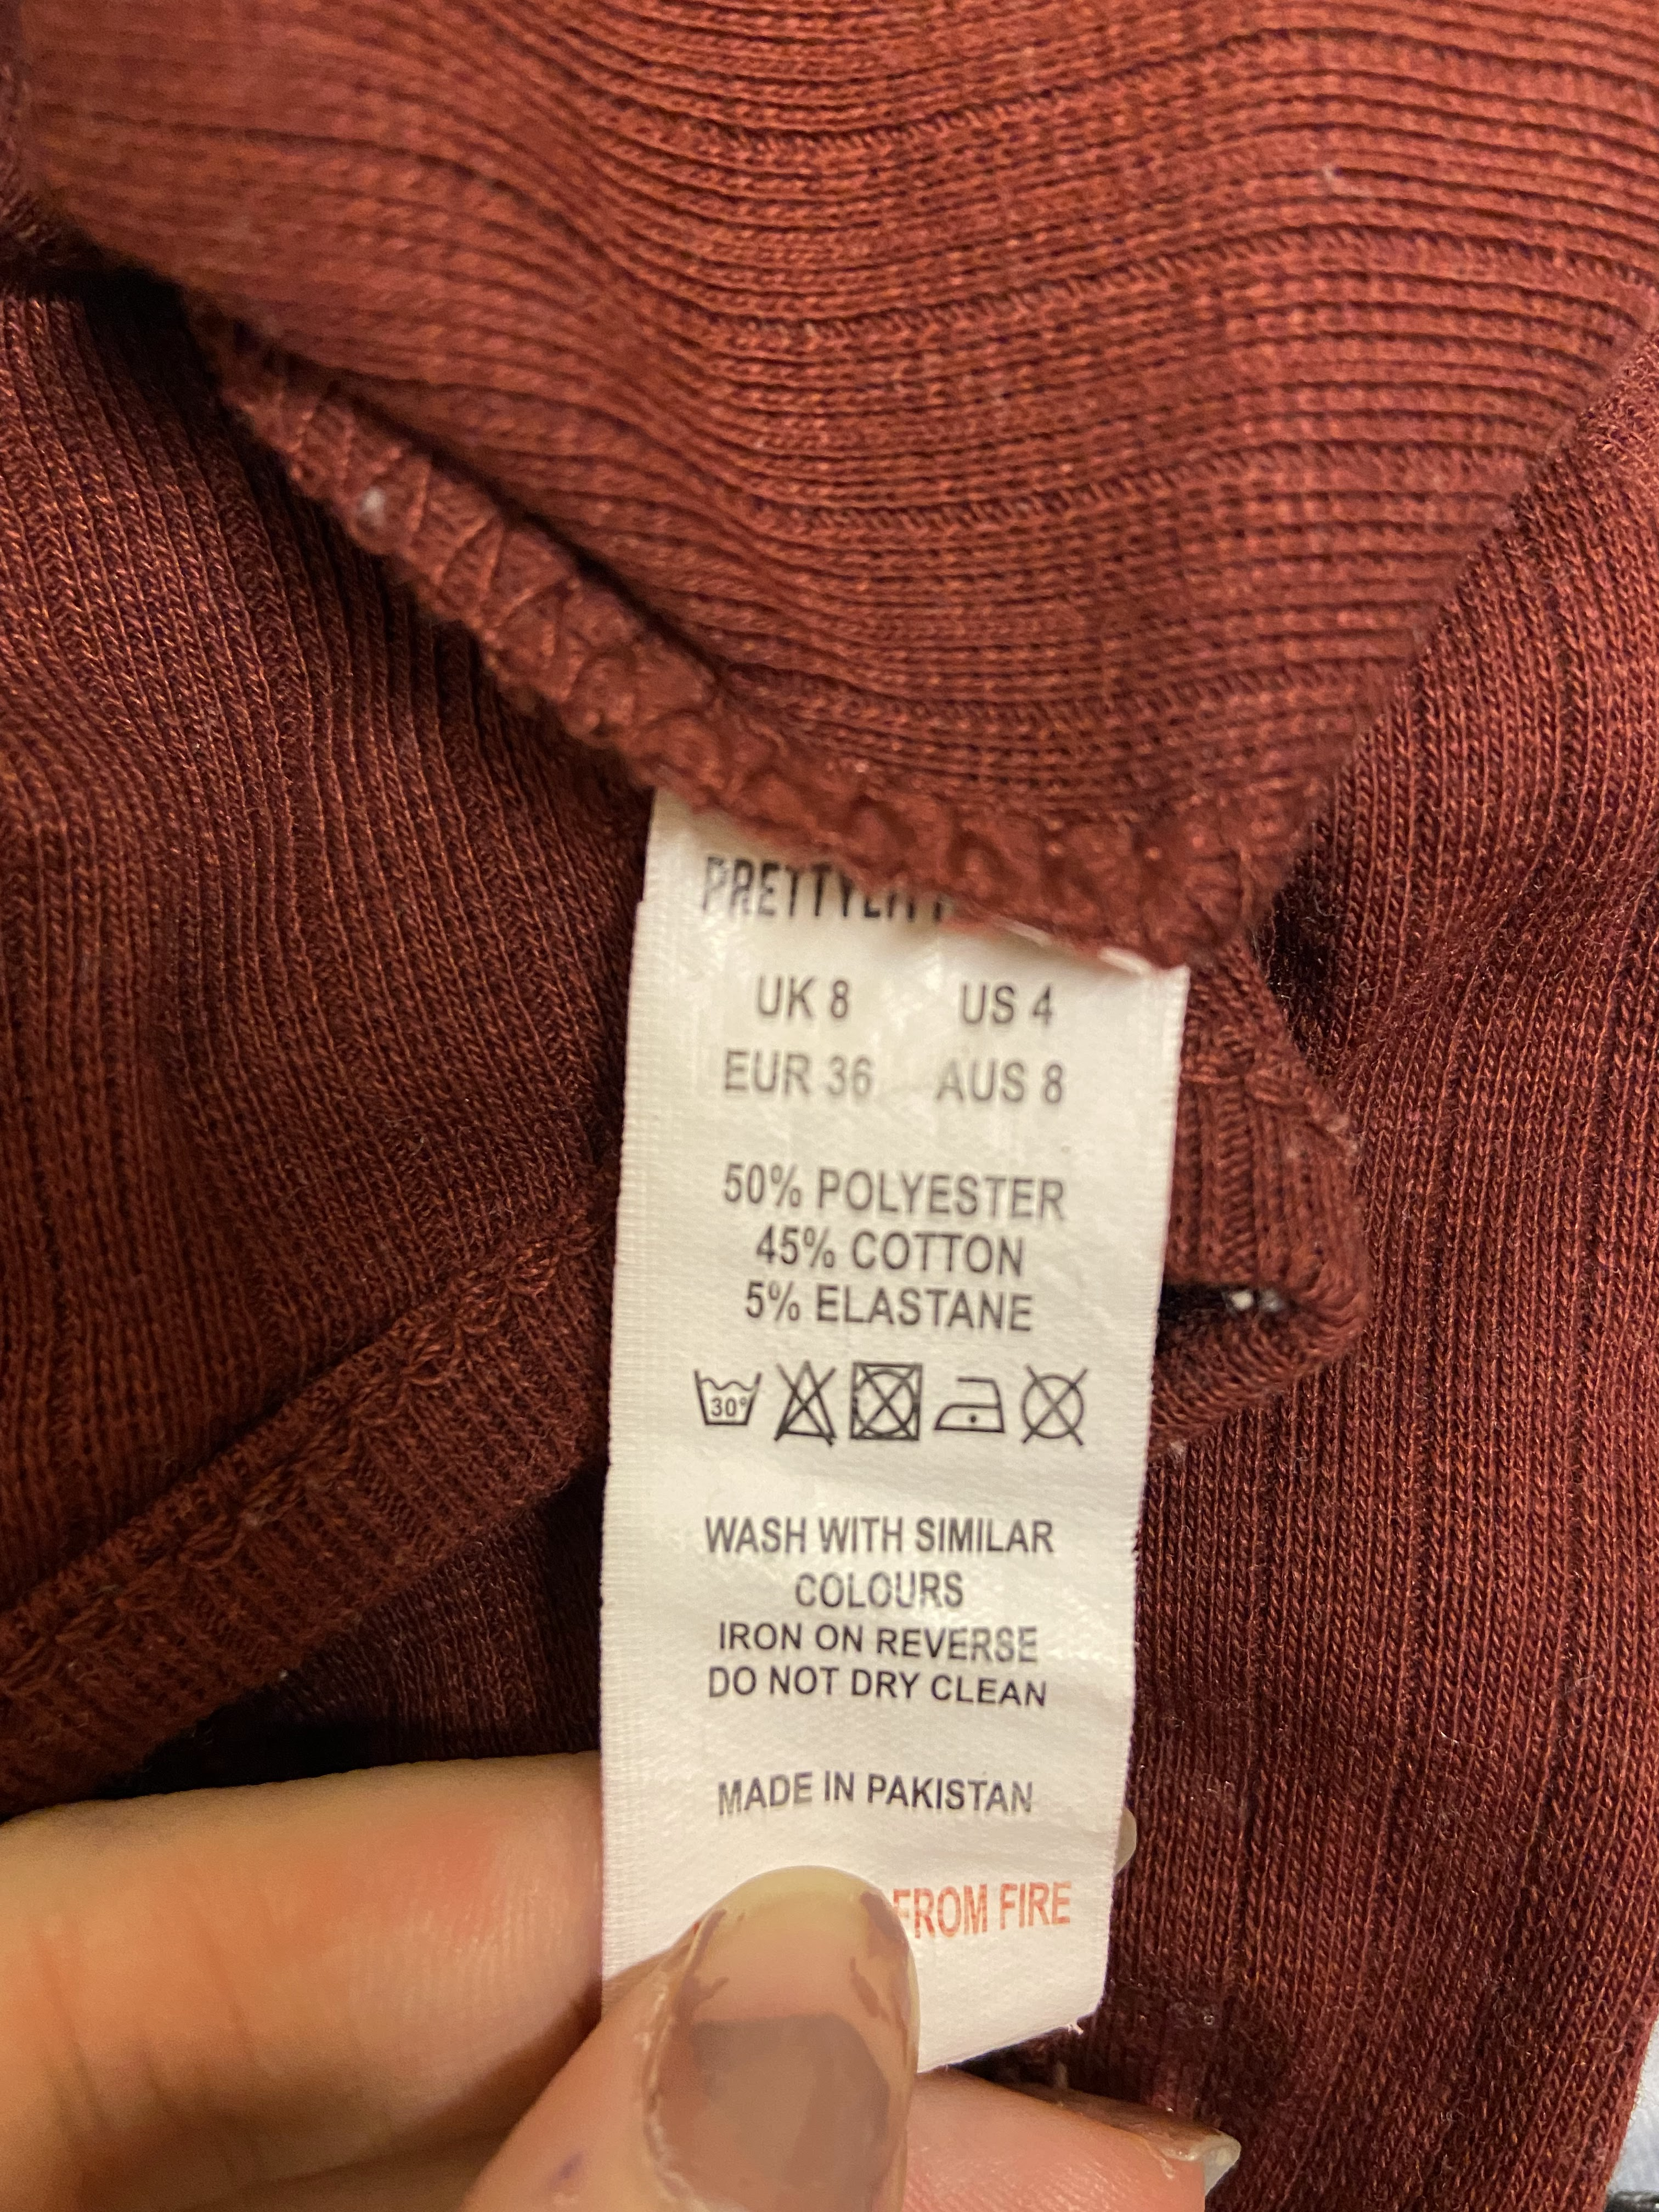do not bleach: (772, 1353, 845, 1461)
do not dry clean: (1014, 1353, 1114, 1460)
do not tumble dry: (847, 1345, 938, 1458)
iron low temp: (925, 1359, 1021, 1456)
wash at or below 30: (645, 1339, 774, 1456)
